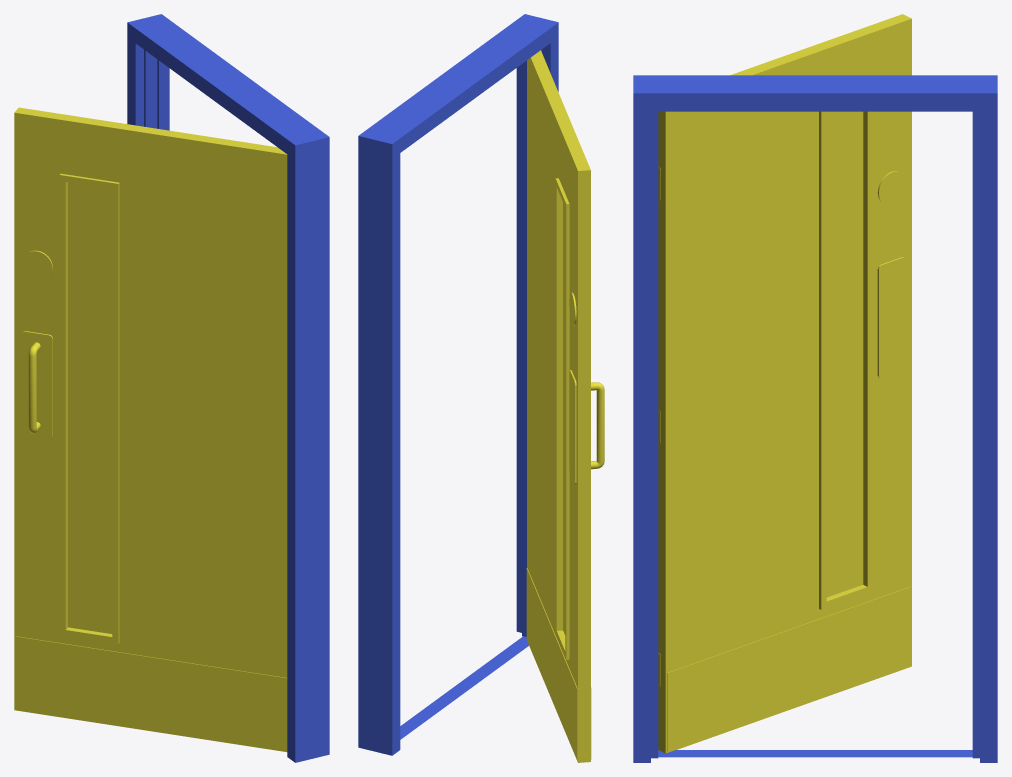
Rendered from Office Door.fbx.
The picture shows the model from 3 angles, left to right: view 1: azimuth 30°, elevation 25°; view 2: azimuth 150°, elevation 25°; view 3: azimuth 270°, elevation 25°; orthographic projection. The views are drawn at different scales.
Parts seen in each view (by area): view 1: SM Office Door.001, SM Office Door; view 2: SM Office Door, SM Office Door.001; view 3: SM Office Door.001, SM Office Door.
Part boxes in pixels (<box>): SM Office Door.001: <box>14,107,287,751</box>; SM Office Door: <box>127,14,329,762</box>; SM Office Door: <box>358,14,558,755</box>; SM Office Door.001: <box>526,50,604,762</box>; SM Office Door.001: <box>658,14,911,753</box>; SM Office Door: <box>633,75,997,762</box>.
Size of the model in its own units: 66.93 by 207 by 102.
